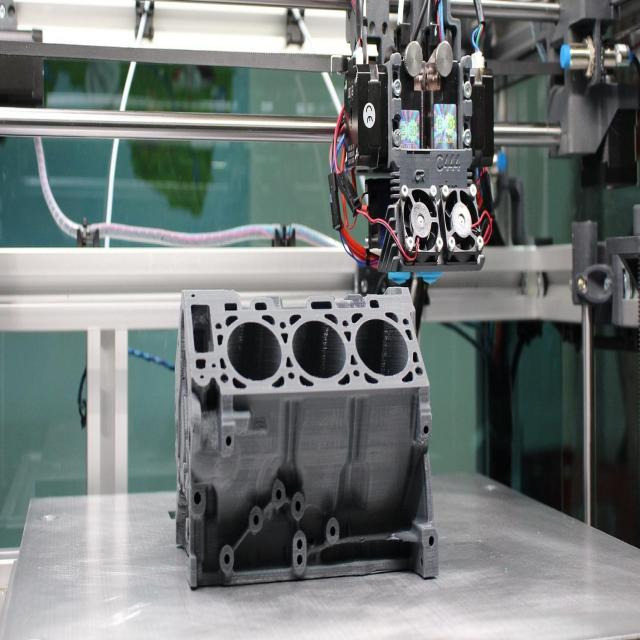Without deffect: (152, 252, 440, 608)
